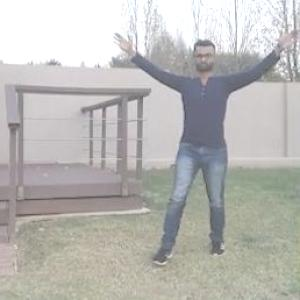takeoff: (110, 23, 299, 269)
